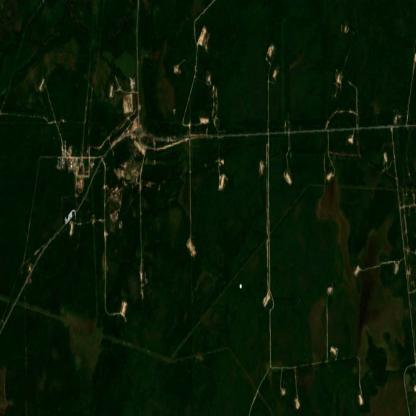oil: (63, 206, 78, 228)
